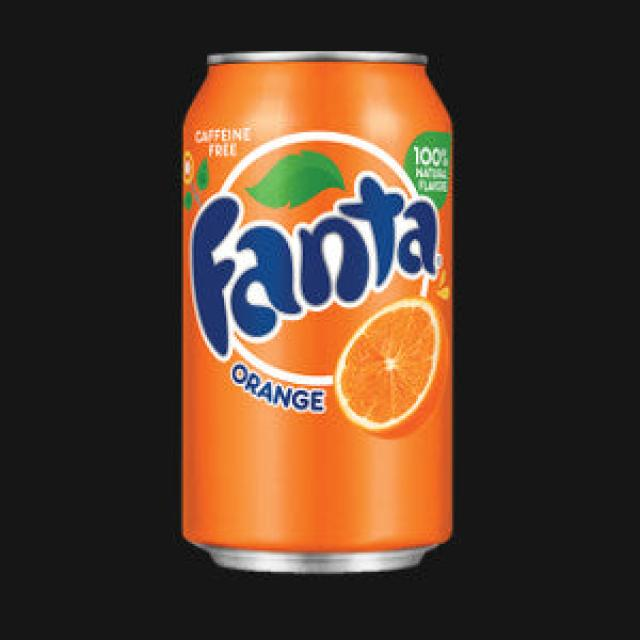fanta: (181, 47, 457, 573)
